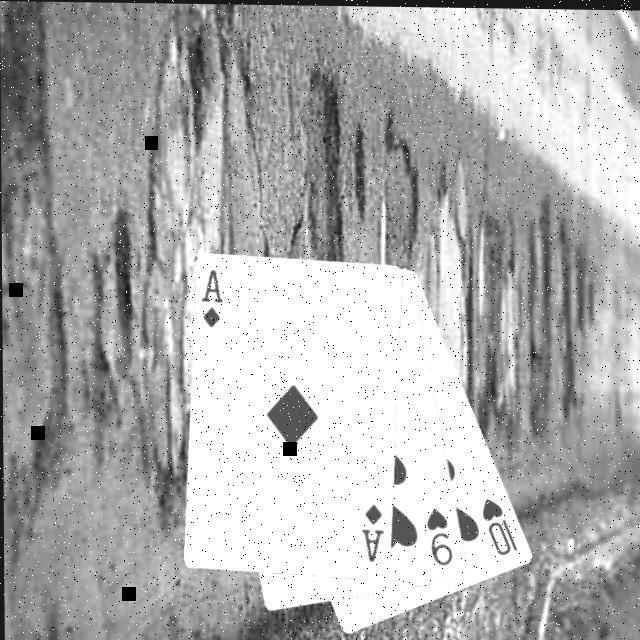10H: (480, 492, 522, 556)
9H: (425, 502, 457, 566)
AD: (359, 498, 388, 562), (200, 264, 228, 328)
